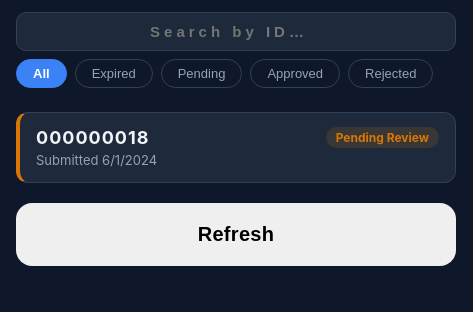
MySubmissions — filter chips › shows "No expired submissions" when Expired filter has no matches
Check: the text "000000018" is shown, box 36,127 -> 150,148
Click the button "Expired" at [114, 74], box 75,59 -> 153,88
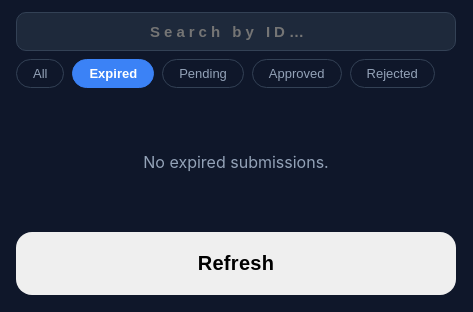
Check: the text "No expired submissions." is shown, box 143,152 -> 329,172
